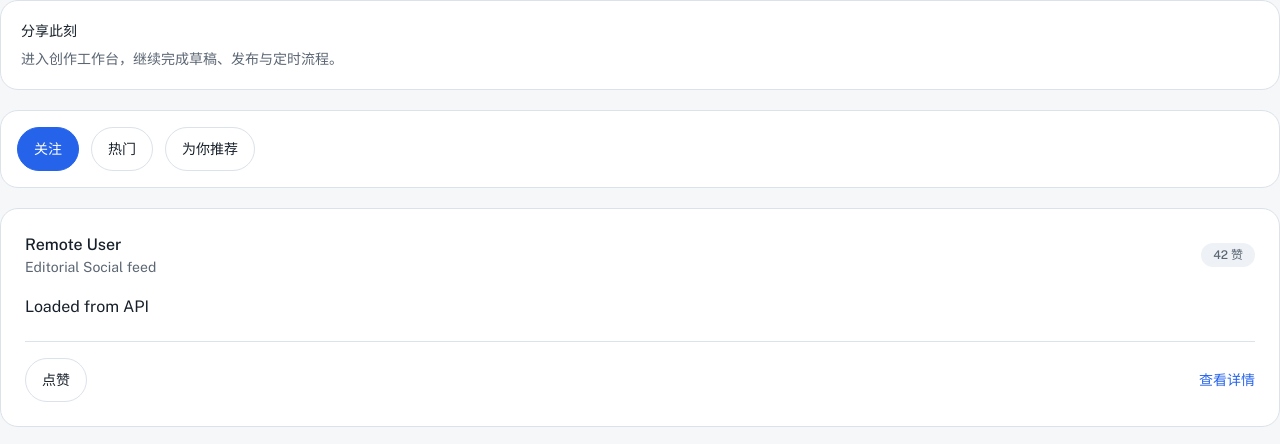
switches between follow, popular, and recommend feeds
This screenshot has width=1280, height=444.
Click the button with test id "timeline-filter-POPULAR" at (122, 149), box [91,127,153,171]
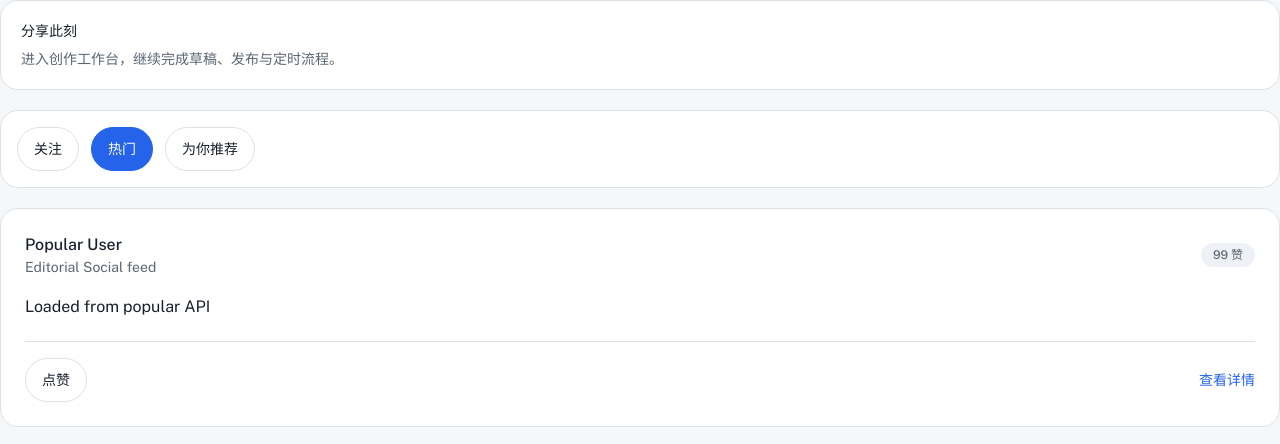
Now the text "Loaded from popular API" is shown, box [25,297,210,316]
Click the button with test id "timeline-filter-RECOMMEND" at (210, 149), box [165,127,255,171]
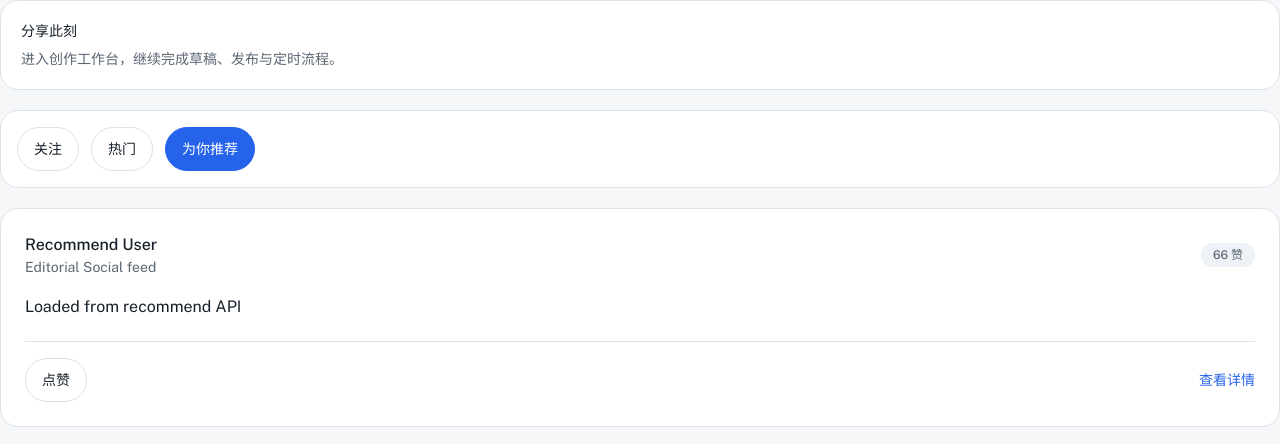
Now the text "Loaded from recommend API" is shown, box [25,297,241,316]
